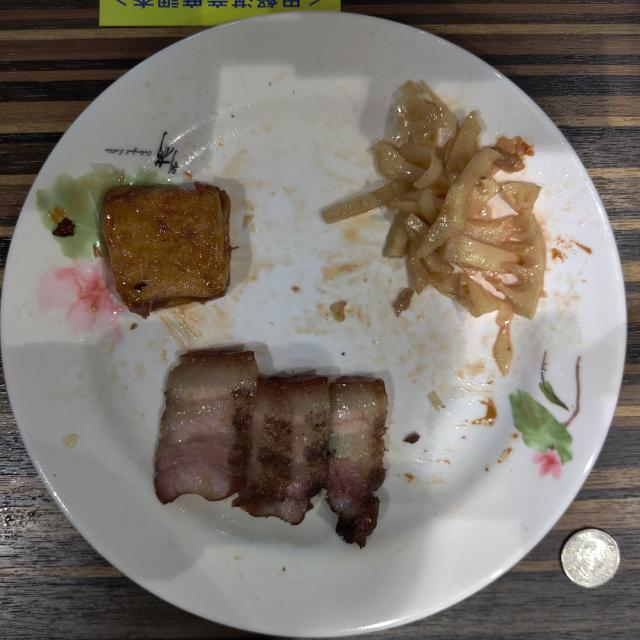coin: (561, 529, 620, 588)
creamy tofu: (101, 182, 232, 318)
red grilled pork: (155, 351, 388, 548)
